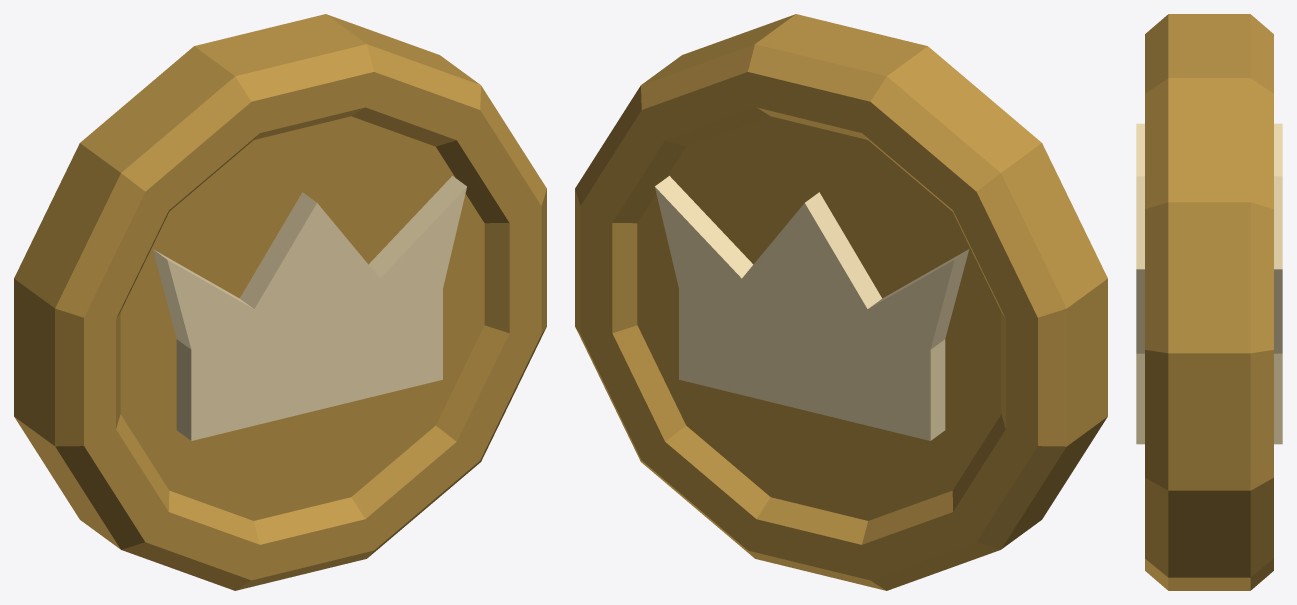
Rendered from GoldCoin.fbx.
3 views of the same model, side by side, from view 1: azimuth 30°, elevation 25°; view 2: azimuth 150°, elevation 25°; view 3: azimuth 270°, elevation 25° (orthographic).
Visible parts, largest first — view 1: Coin, Crown; view 2: Coin, Crown; view 3: Coin, Crown.
Boxes of the visible parts, x1,y1,x2,y2 form: Coin: (14,14,546,590); Crown: (152,176,466,440); Coin: (575,14,1107,590); Crown: (655,176,969,440); Coin: (1145,14,1273,590); Crown: (1136,123,1282,444).
Bounding box in the file's own units: 0.9659 × 0.9659 × 0.25.
